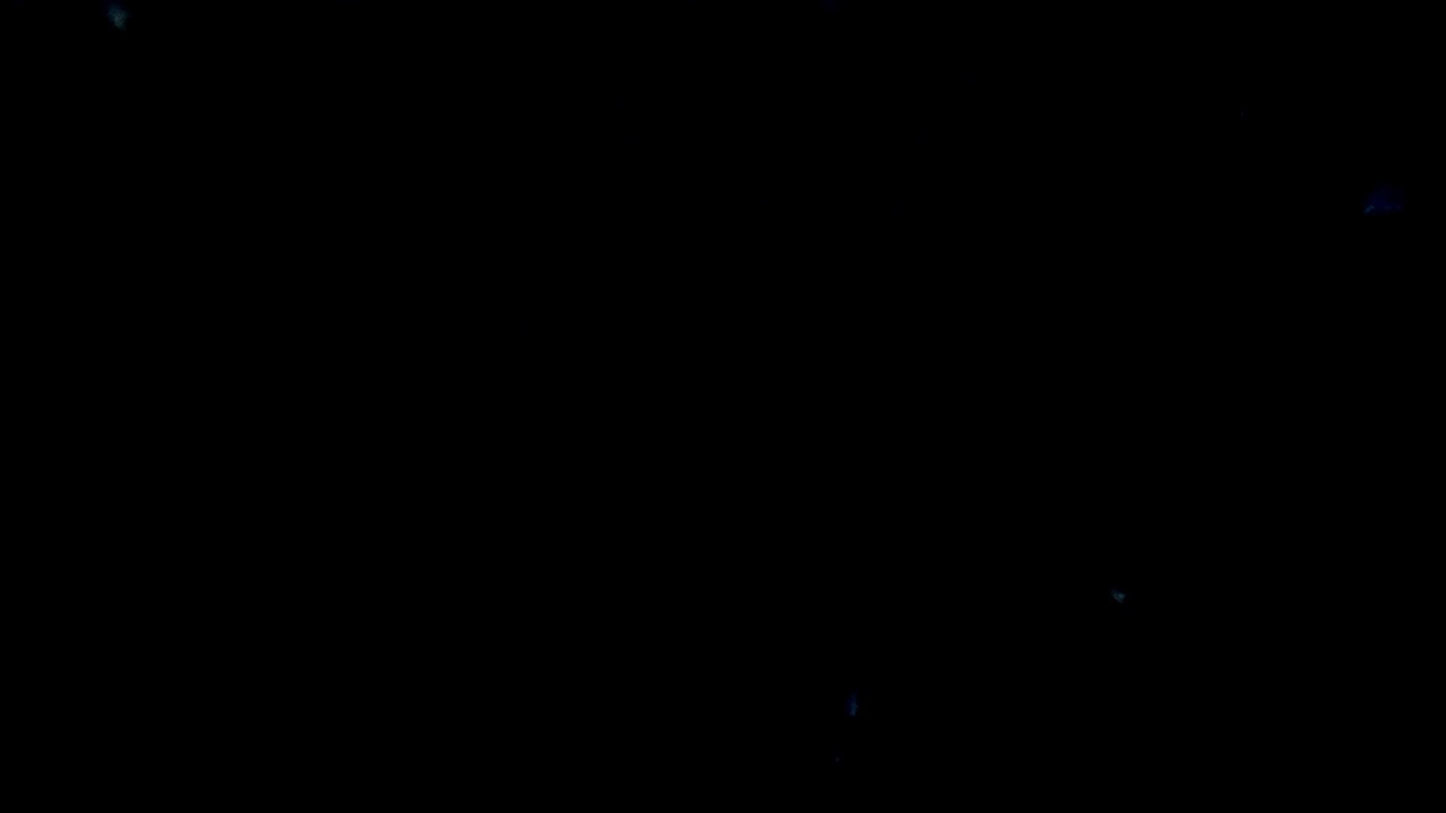organism: (1356, 179, 1405, 219), (845, 685, 860, 721)
